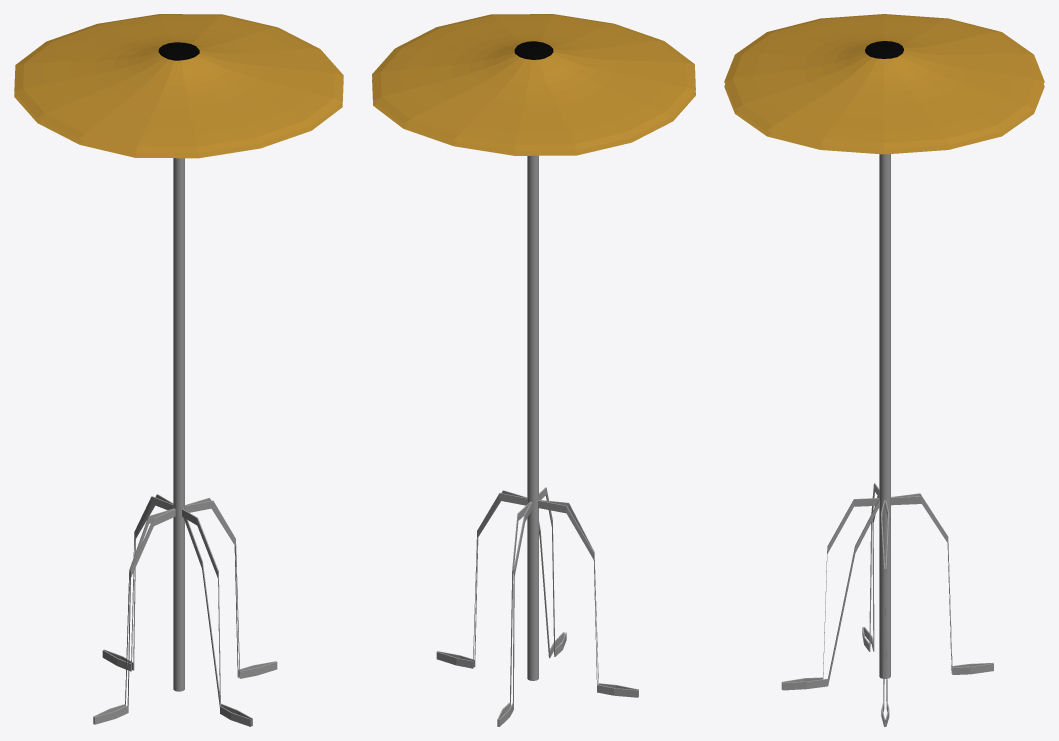
File: Becken_Anim.fbx
3 views of the same model, side by side, from view 1: azimuth 30°, elevation 25°; view 2: azimuth 150°, elevation 25°; view 3: azimuth 270°, elevation 25° (orthographic).
Parts seen in each view (by area): view 1: Oberteil_Becken, Gestänge, Unterteil_Becken; view 2: Oberteil_Becken, Gestänge, Unterteil_Becken; view 3: Oberteil_Becken, Gestänge, Unterteil_Becken.
Part boxes in pixels (x1,y1,x2,y2): Oberteil_Becken: [14, 14, 343, 153]; Gestänge: [93, 158, 277, 726]; Unterteil_Becken: [14, 80, 343, 158]; Oberteil_Becken: [372, 14, 695, 150]; Gestänge: [436, 155, 638, 726]; Unterteil_Becken: [372, 79, 695, 155]; Oberteil_Becken: [724, 14, 1044, 149]; Gestänge: [781, 154, 993, 726]; Unterteil_Becken: [724, 84, 1044, 154].
Bounding box in the file's own units: 287 × 624 × 287.
